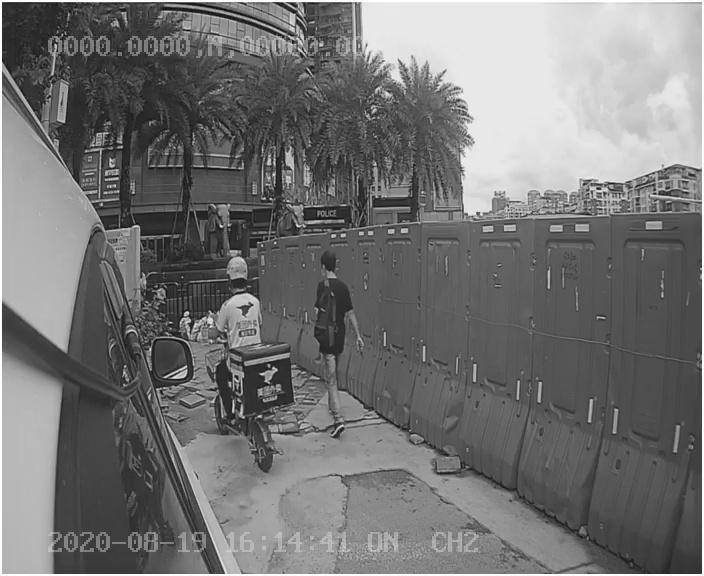person: (296, 243, 368, 440)
